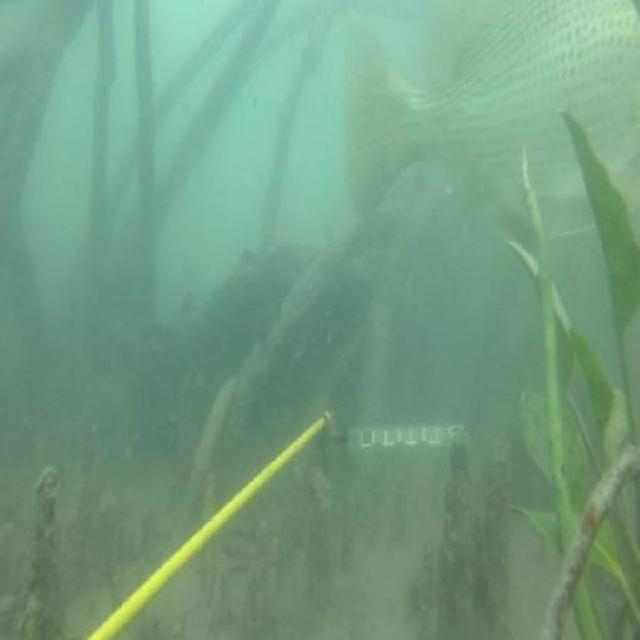lutjanus_johnii: (338, 0, 639, 238)
